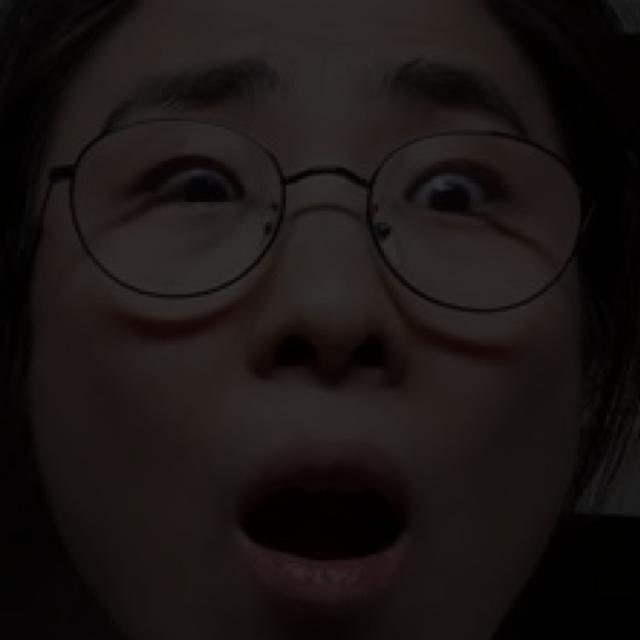Surprised: (43, 33, 595, 640)
